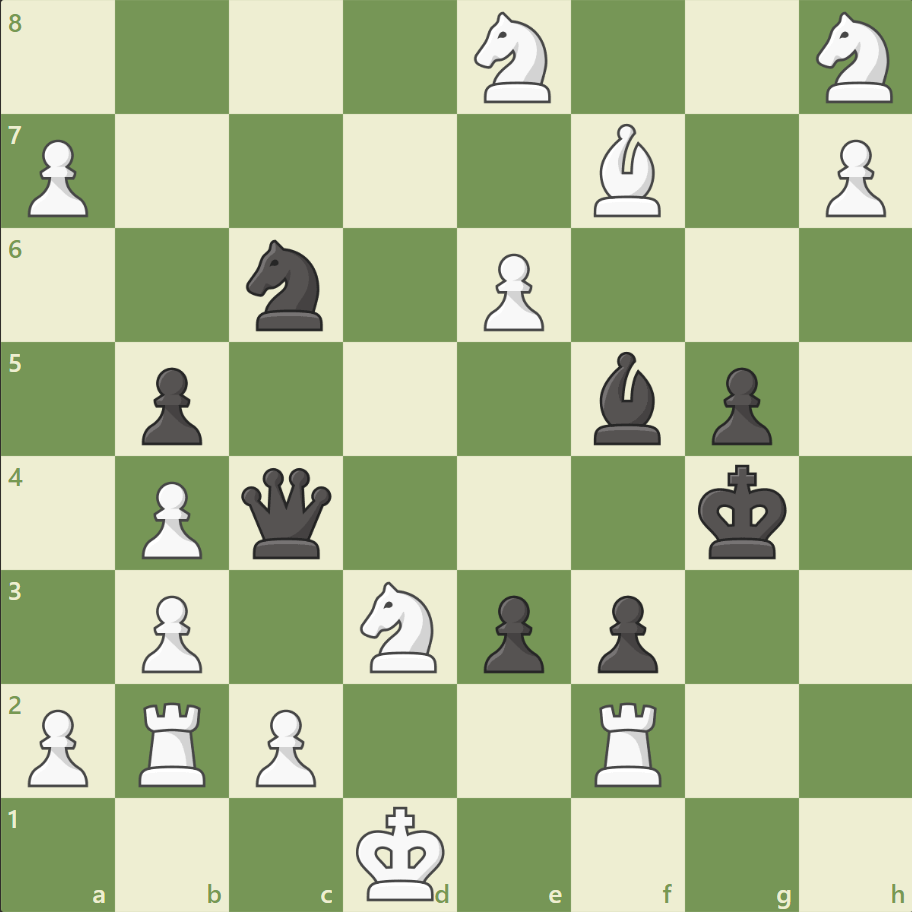B: (585, 120, 669, 222)
K: (351, 798, 451, 906)
N: (351, 575, 449, 677), (465, 7, 562, 110), (806, 7, 903, 110)
P: (20, 132, 95, 223), (474, 246, 549, 337), (133, 473, 208, 564), (133, 586, 208, 677), (20, 700, 95, 791), (247, 700, 322, 791), (815, 132, 889, 223)
R: (587, 693, 670, 790), (133, 693, 215, 790)
b: (585, 347, 669, 449)
k: (692, 458, 792, 566)
n: (238, 234, 335, 337)
p: (133, 359, 208, 450), (701, 359, 776, 450), (474, 586, 549, 677), (588, 586, 662, 677)
q: (237, 463, 336, 562)
